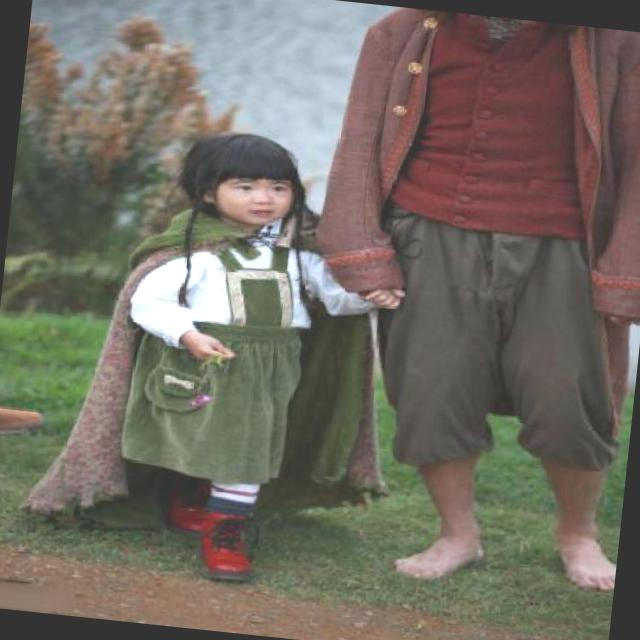Person: (41, 99, 426, 606)
